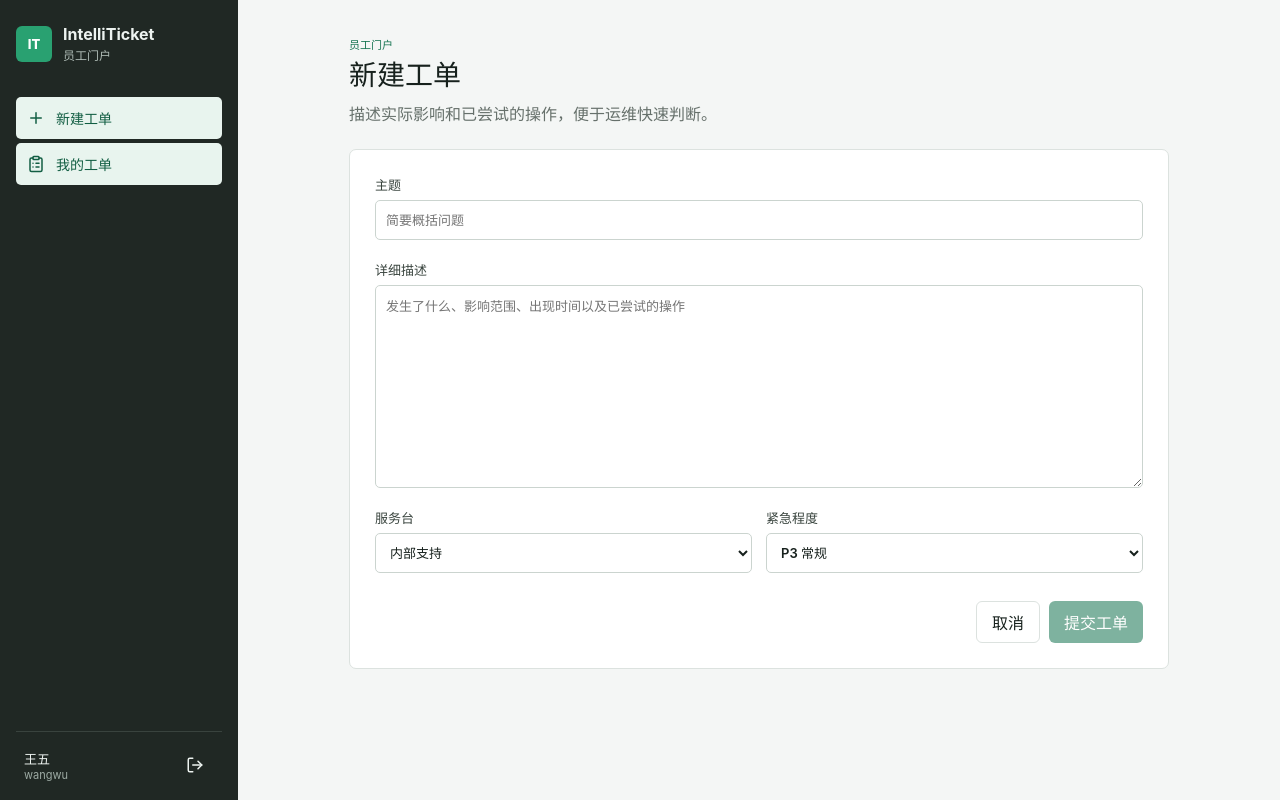
P3 role-based application › submits a new employee ticket and opens its stable detail URL
Type "无法访问内部系统" into the field named "工单主题". click: [759, 220]
box: [375,200,1143,240]
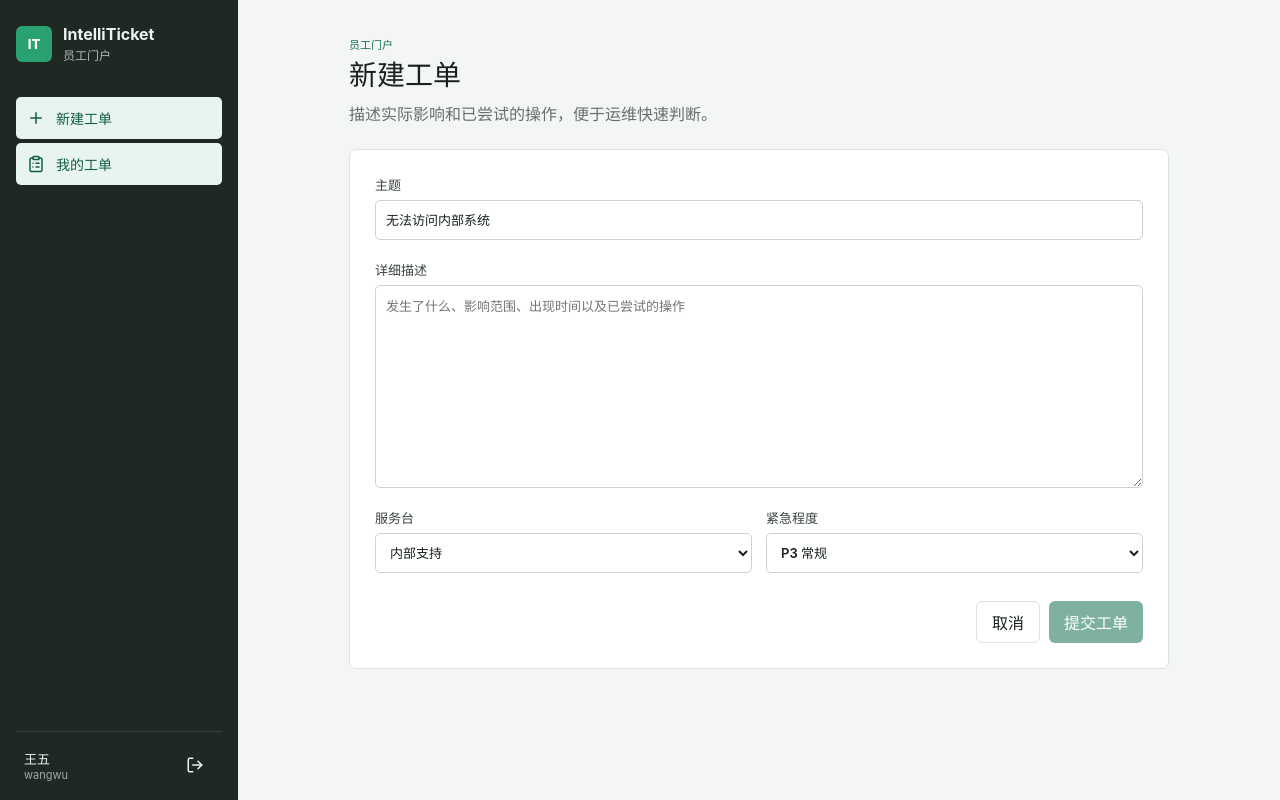
Type "登录后持续提示没有访问权限。" into the text box named "工单描述". click: [759, 386]
box: [375,285,1143,488]
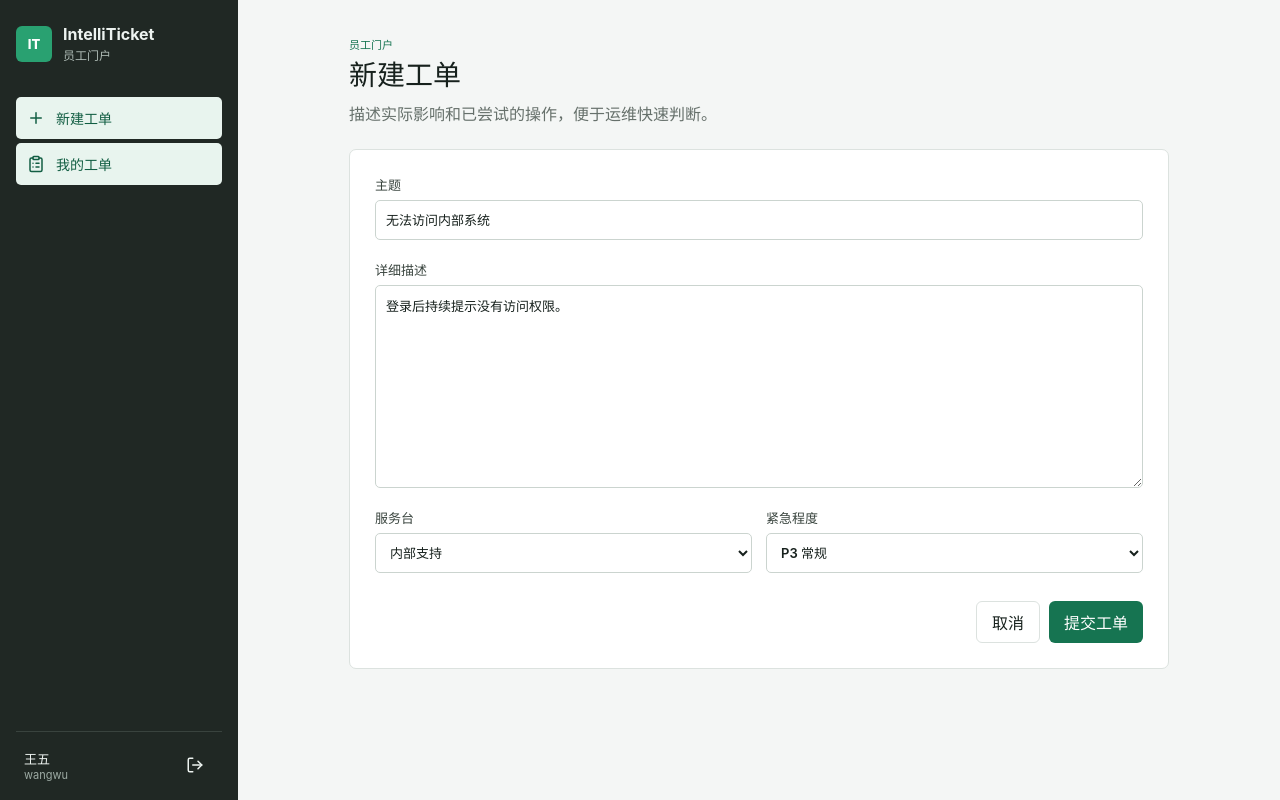
Click the button "提交工单". click: [1096, 622]
box: [1049,601,1143,643]
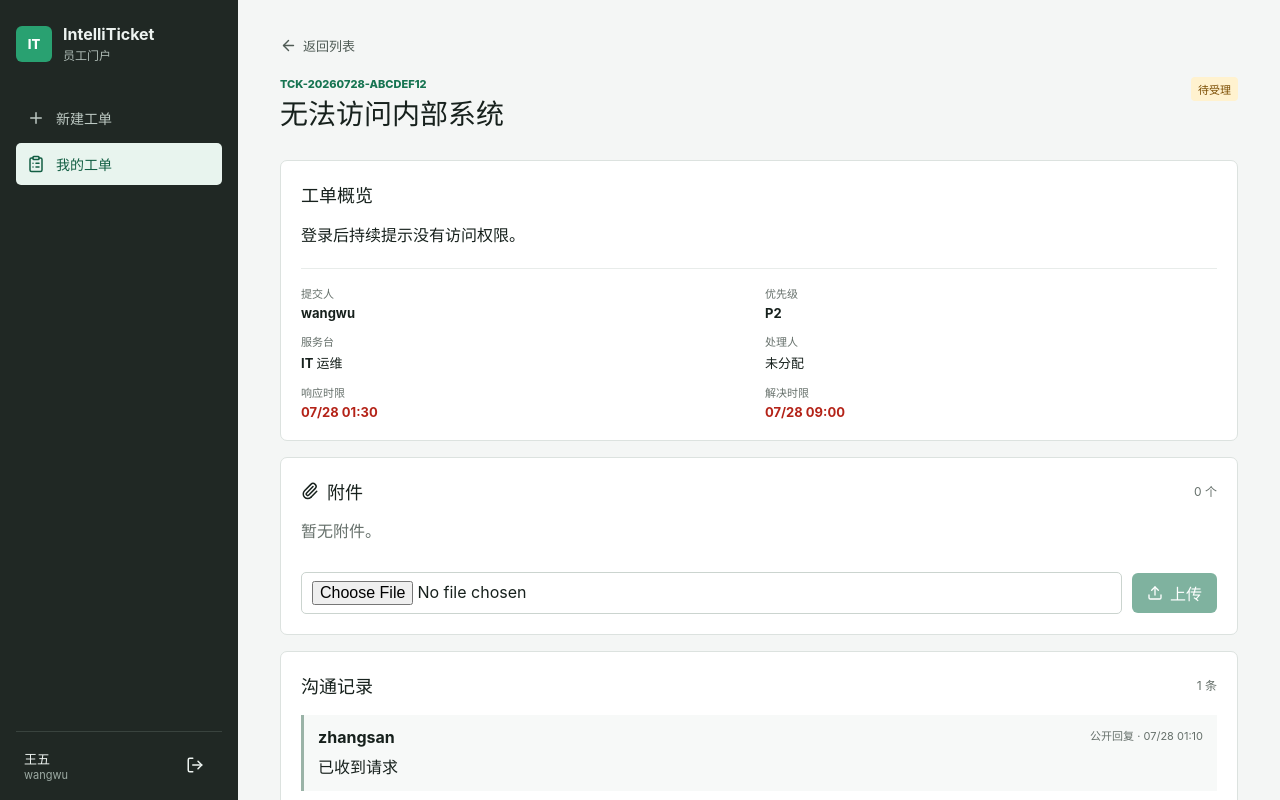
Result: the heading "无法访问内部系统" is shown at [280,98,504,132]
